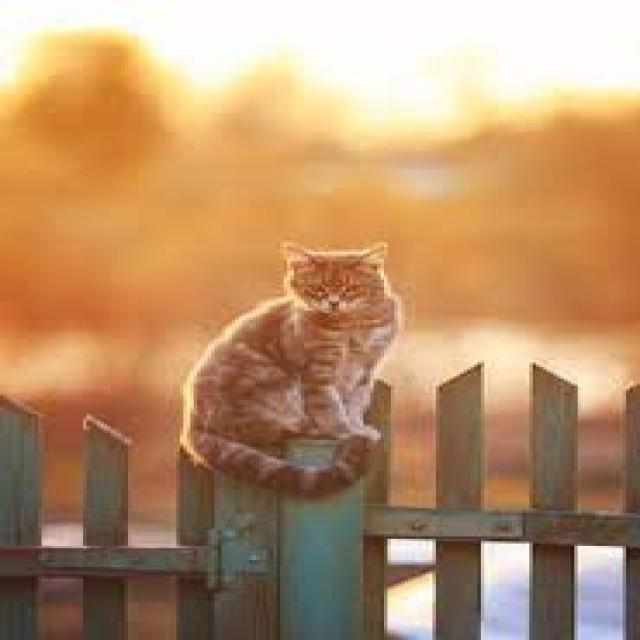Cat: (177, 238, 409, 503)
